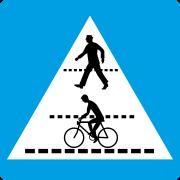Cycle Crossing: (28, 75, 159, 170)
